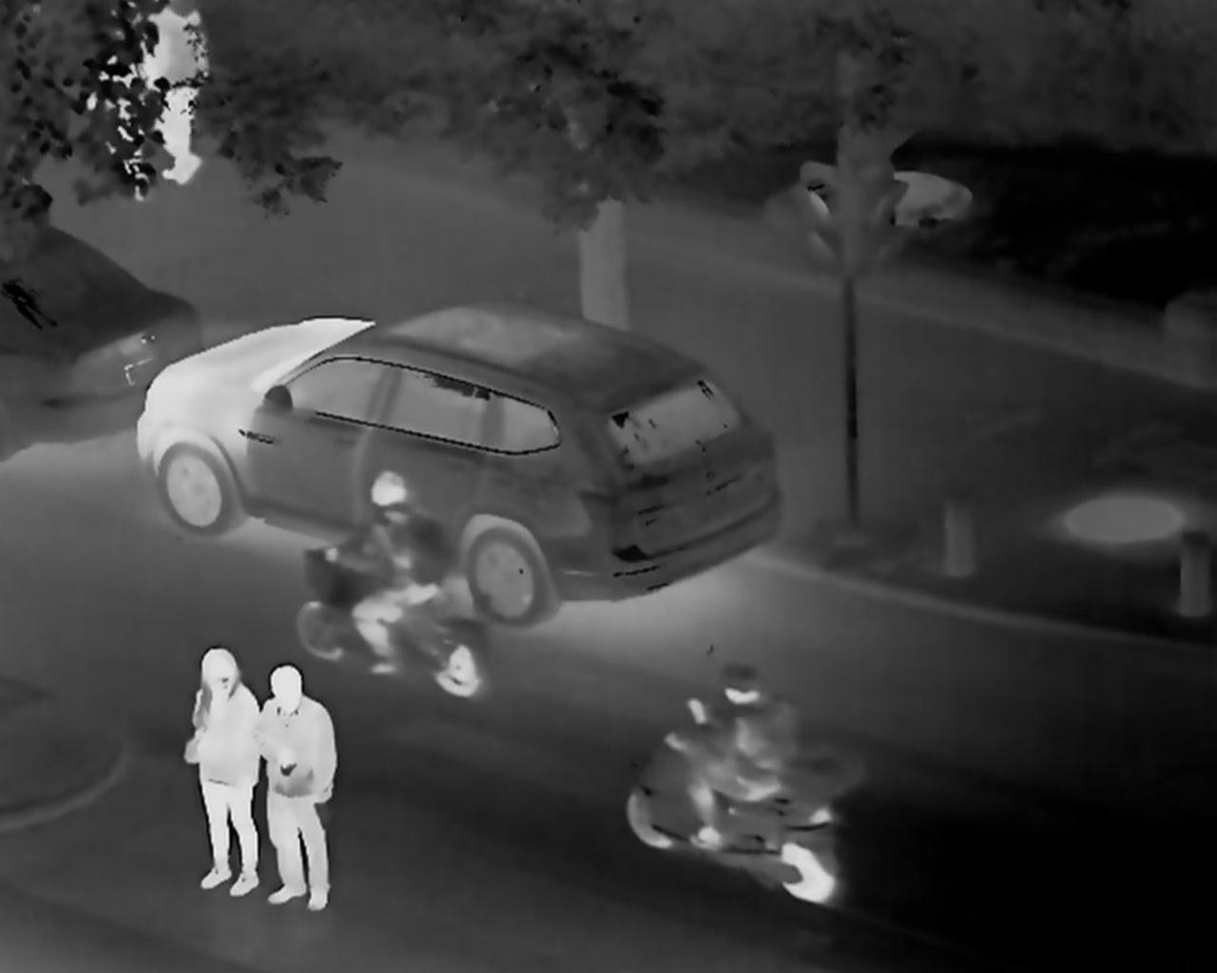person: (655, 658, 797, 857), (320, 460, 447, 679), (186, 644, 264, 899), (255, 664, 333, 916), (138, 3, 207, 185)
